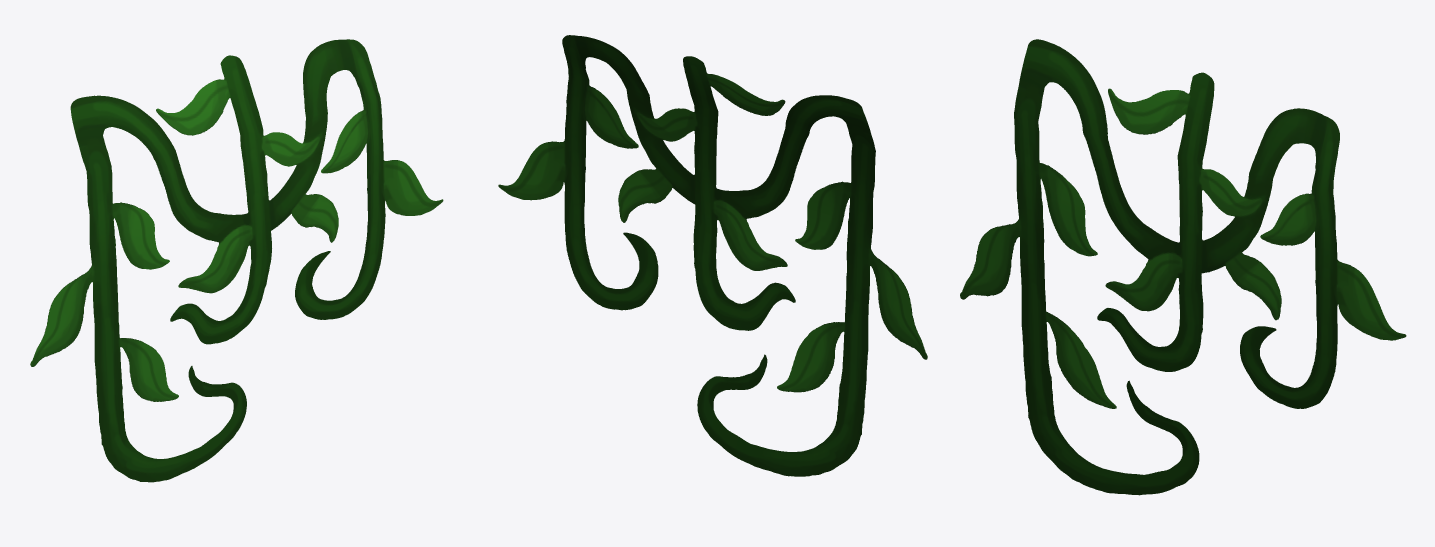
Rendered from sm_env_vineandloop.fbx.
3 renders of one model, left to right at view 1: azimuth 30°, elevation 25°; view 2: azimuth 150°, elevation 25°; view 3: azimuth 330°, elevation 25°, orthographic. The views are drawn at different scales.
Parts seen in each view (by area): view 1: sm_env_vineandloop; view 2: sm_env_vineandloop; view 3: sm_env_vineandloop.
Boxes of the visible parts, x1,y1,x2,y2 form: sm_env_vineandloop: [30, 39, 443, 482]; sm_env_vineandloop: [498, 35, 927, 476]; sm_env_vineandloop: [960, 39, 1406, 495].
Size of the model in its own units: 131 by 122 by 12.67.
